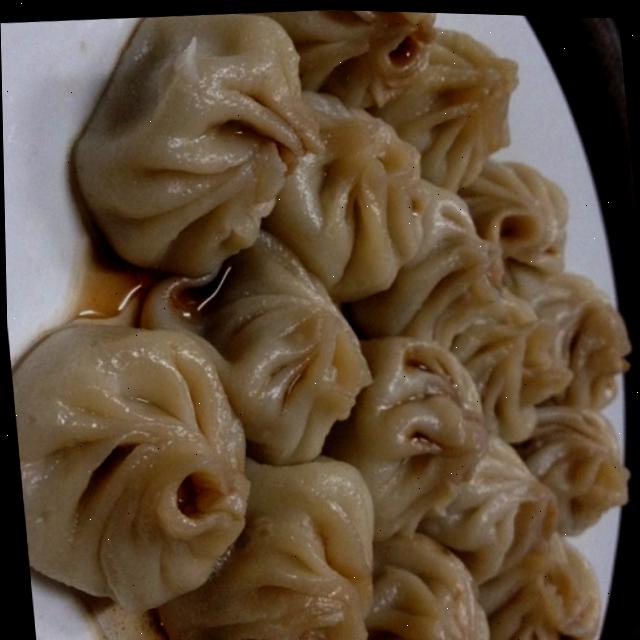带馅早点: (3, 6, 635, 640)
